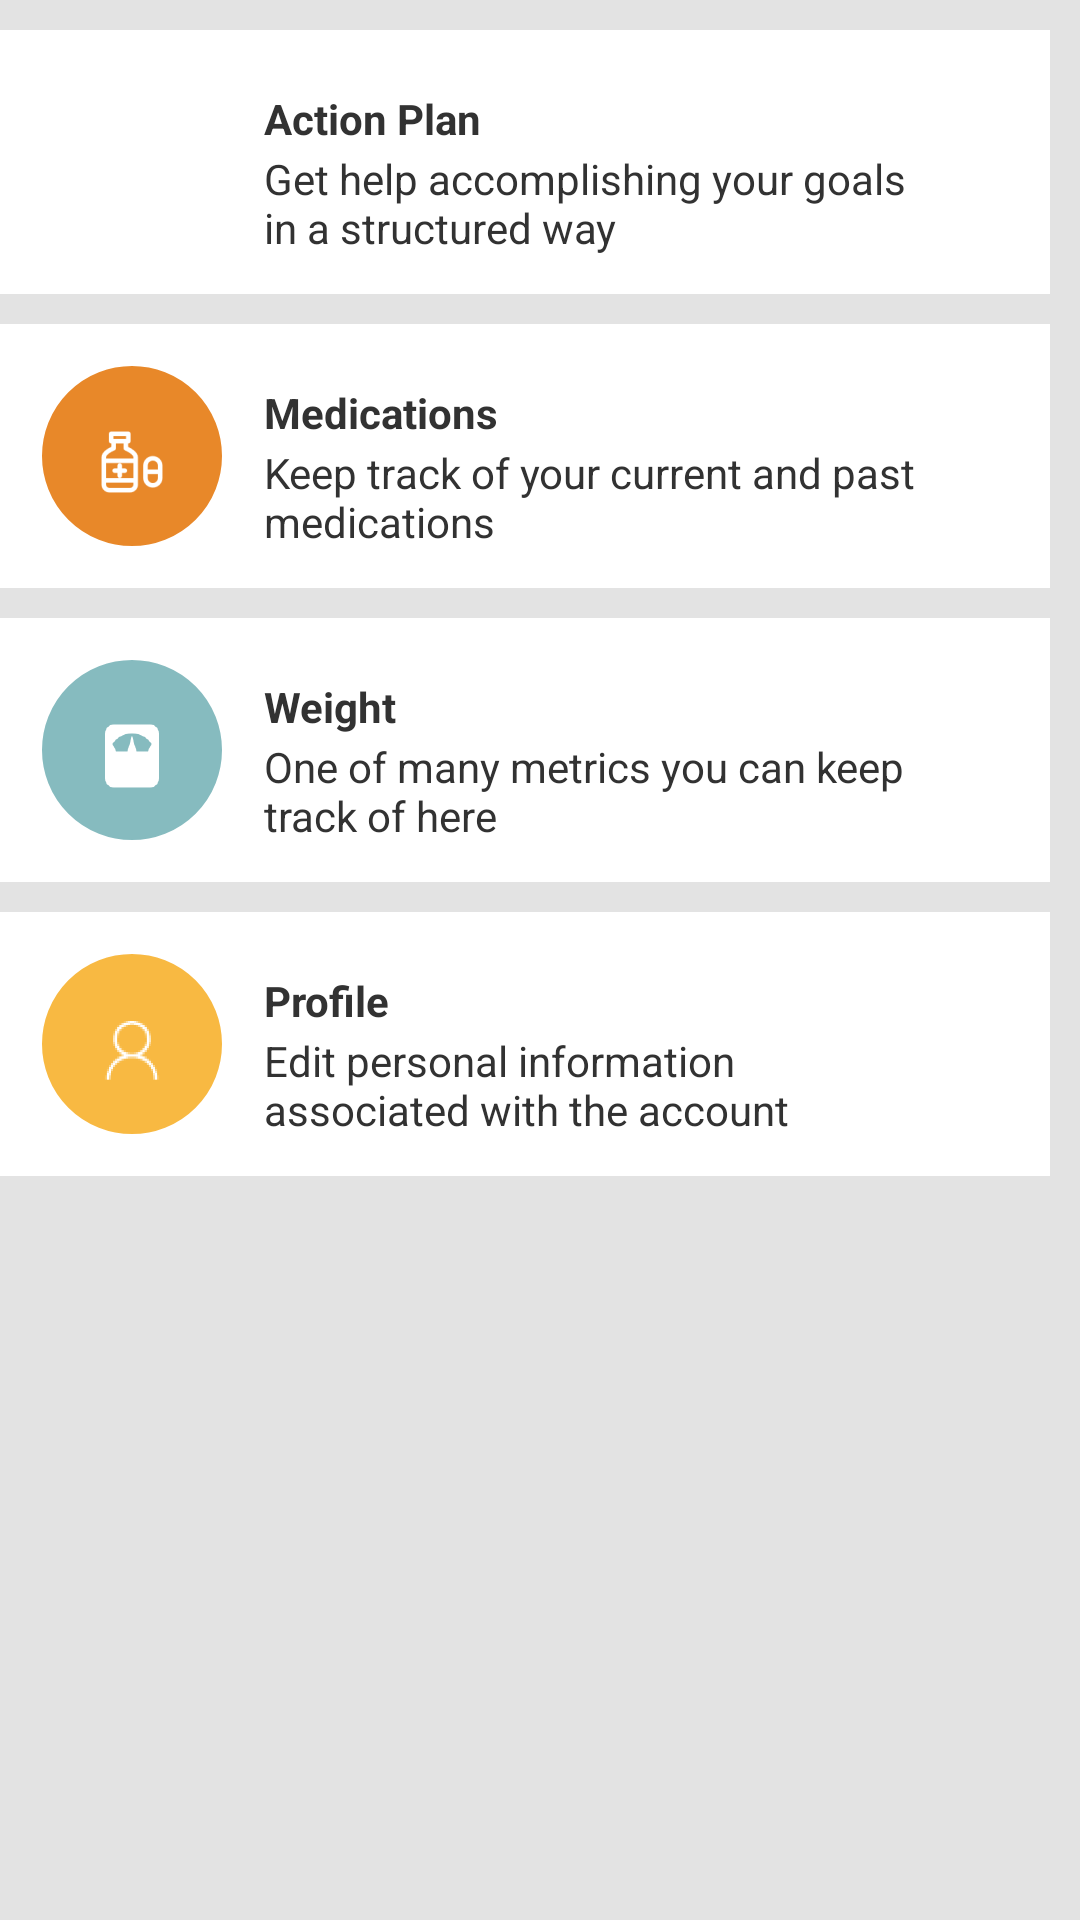

Screen size 1080w x 1920h. Icon name, then its box in pixels as box=[x1, y1, x2, y2]:
meds: box=[101, 431, 163, 493]
